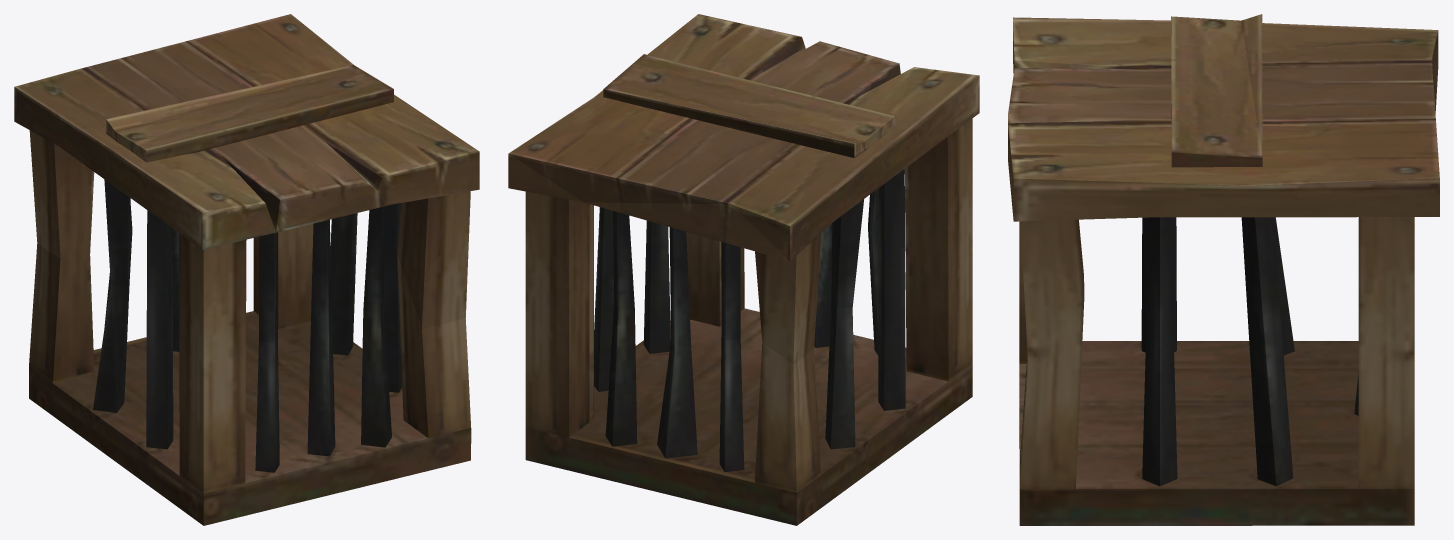
File: mwzz_4_25.fbx
3 views of the same model, side by side, from view 1: azimuth 30°, elevation 25°; view 2: azimuth 150°, elevation 25°; view 3: azimuth 270°, elevation 25° (orthographic). The views are drawn at different scales.
Visible parts, largest first — view 1: mwzz_4_25; view 2: mwzz_4_25; view 3: mwzz_4_25.
Boxes of the visible parts, <box> form: mwzz_4_25: <box>14,14,479,525</box>; mwzz_4_25: <box>508,14,979,525</box>; mwzz_4_25: <box>1008,14,1439,525</box>.
Size of the model in its own units: 76.21 by 85.42 by 90.51.
